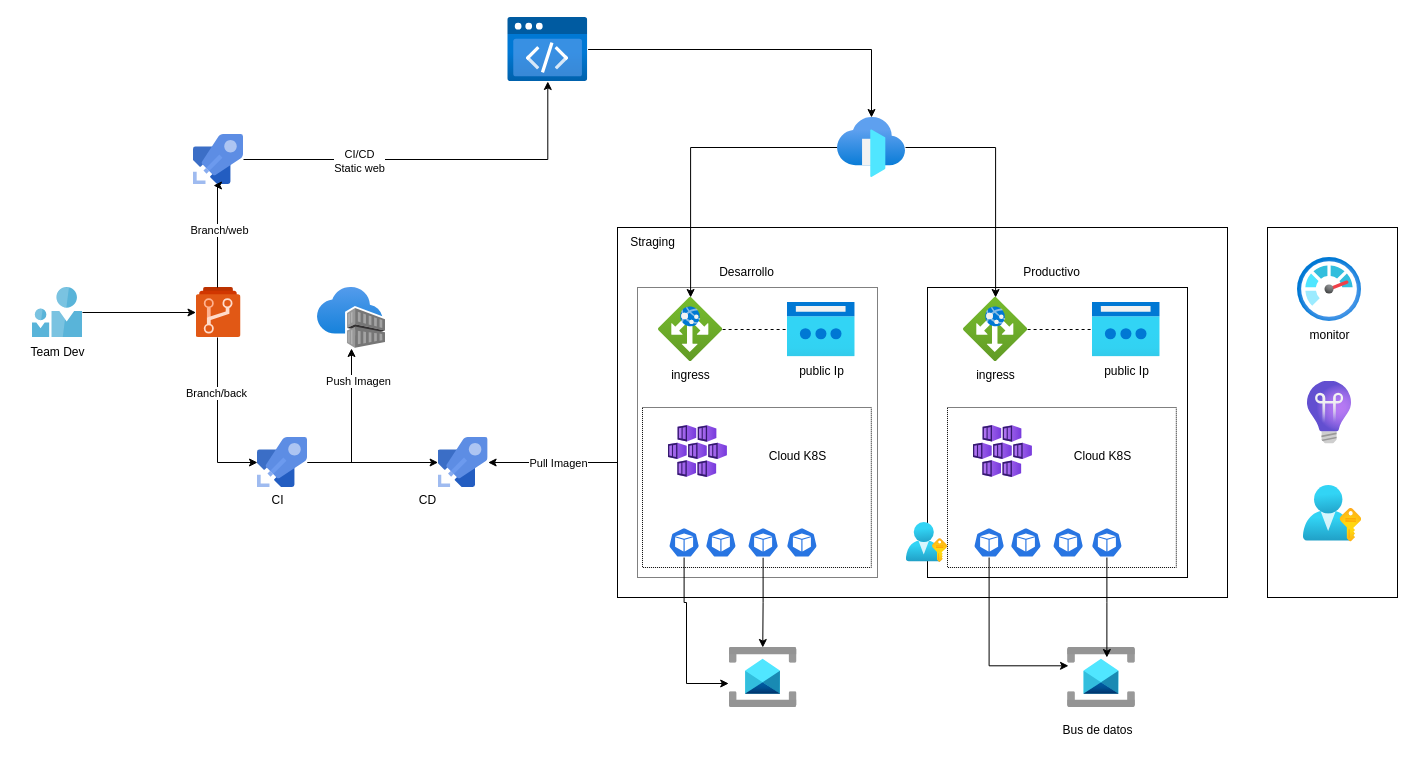
Some shapes in this 1415 by 762 pixel diagram are drawn without their labels. The box of each missing label's shape, as (x1, y1, x2, y2) in pixels:
approve: (906, 522, 947, 562)
insigth: (1307, 380, 1351, 444)
operator: (1303, 485, 1361, 542)
